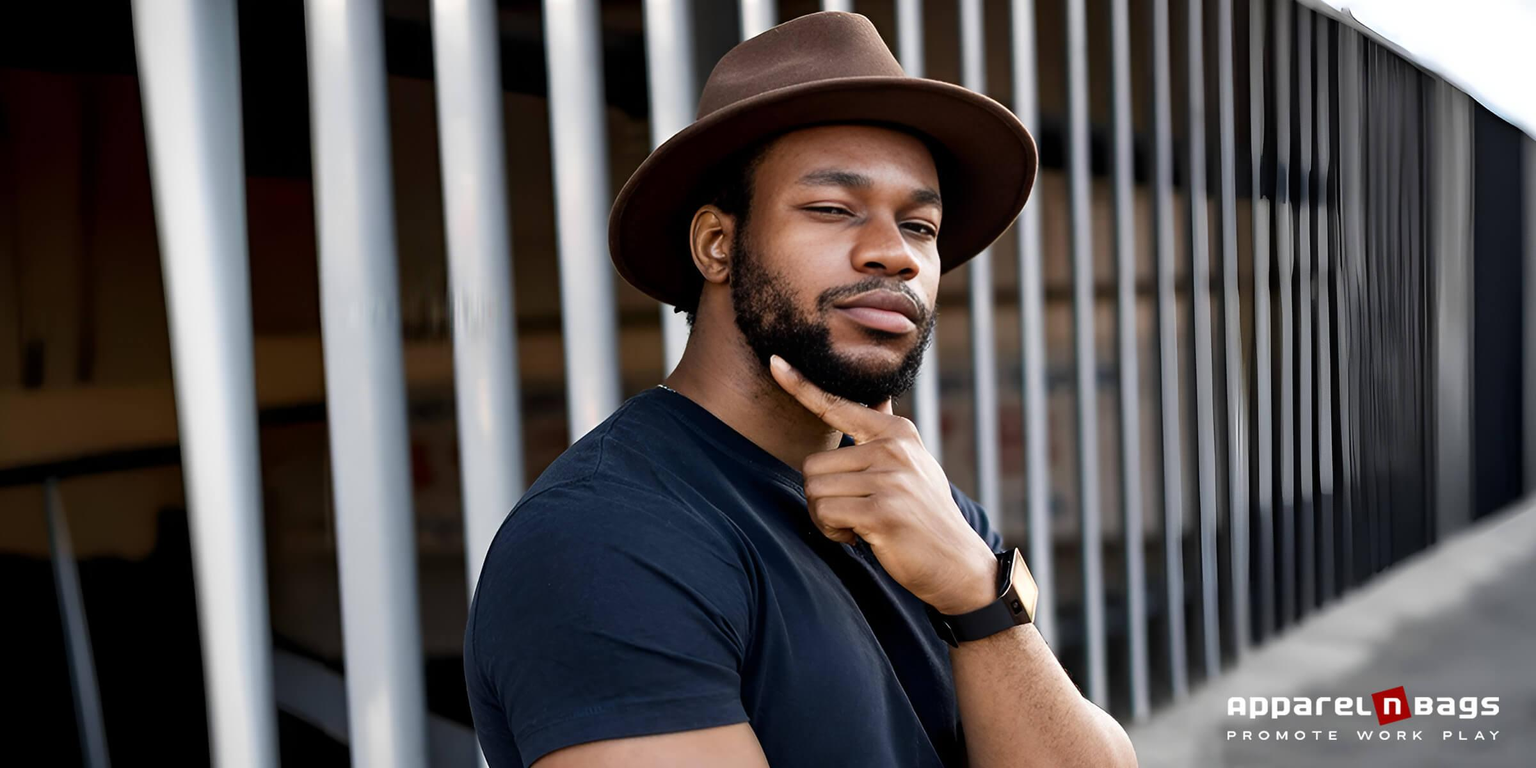cap: (595, 8, 1043, 301)
